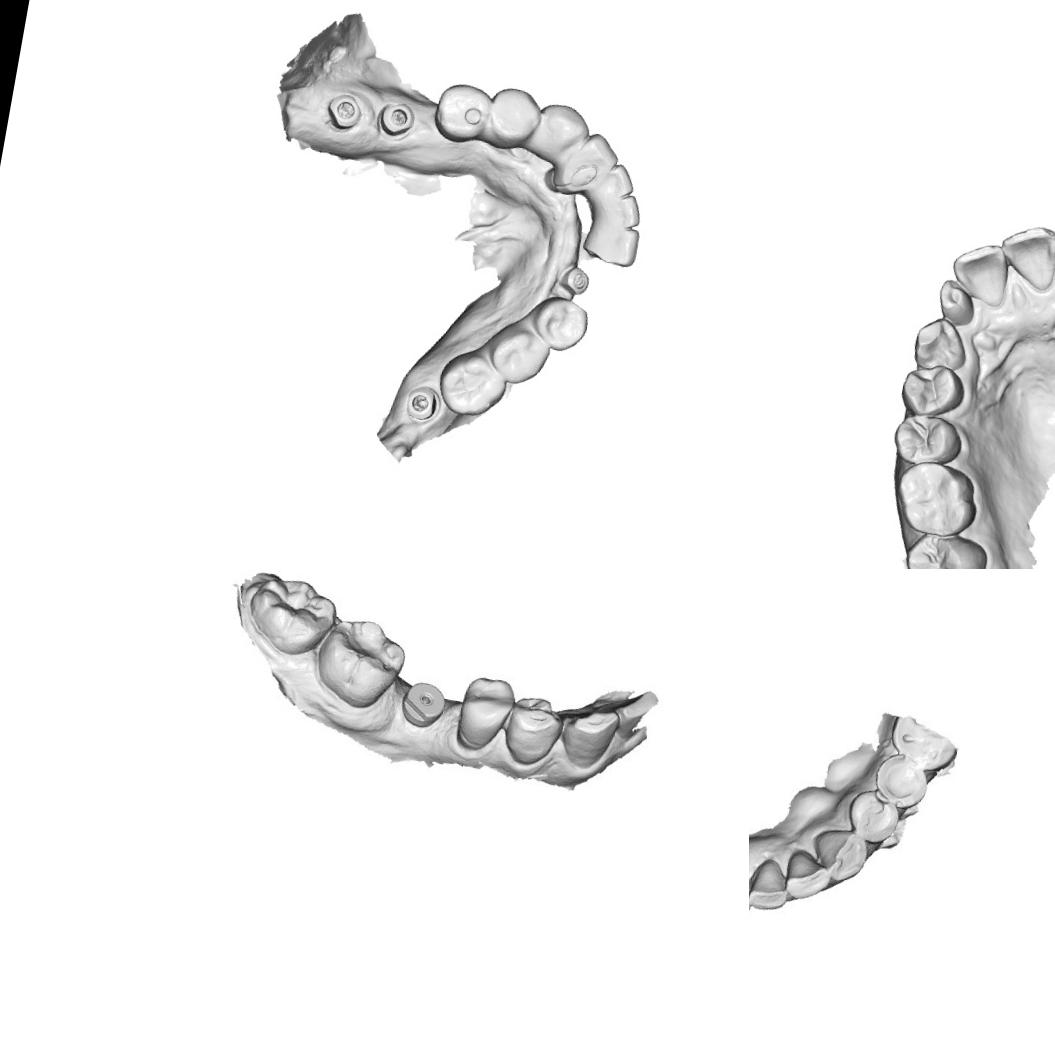canine: (527, 98, 593, 170), (558, 700, 619, 774), (907, 312, 972, 375), (808, 820, 870, 884)
implant: (395, 676, 449, 732), (373, 98, 419, 142), (322, 88, 365, 134), (402, 382, 441, 424), (555, 262, 592, 296)
incisor: (945, 236, 1013, 310), (993, 217, 1055, 292), (781, 849, 834, 906), (587, 219, 642, 268), (614, 685, 658, 744), (749, 857, 793, 914), (933, 277, 979, 327), (576, 130, 622, 178), (598, 160, 637, 198), (606, 191, 643, 231), (749, 862, 760, 923)
molar: (304, 607, 414, 716), (241, 569, 336, 660), (888, 454, 984, 542), (432, 346, 511, 421), (896, 527, 990, 569)
premolar: (449, 668, 518, 756), (495, 690, 561, 769), (894, 357, 970, 423), (888, 409, 968, 471), (484, 320, 553, 390), (428, 76, 493, 148), (866, 748, 934, 814), (524, 291, 592, 355), (483, 83, 544, 154), (840, 786, 905, 848)
